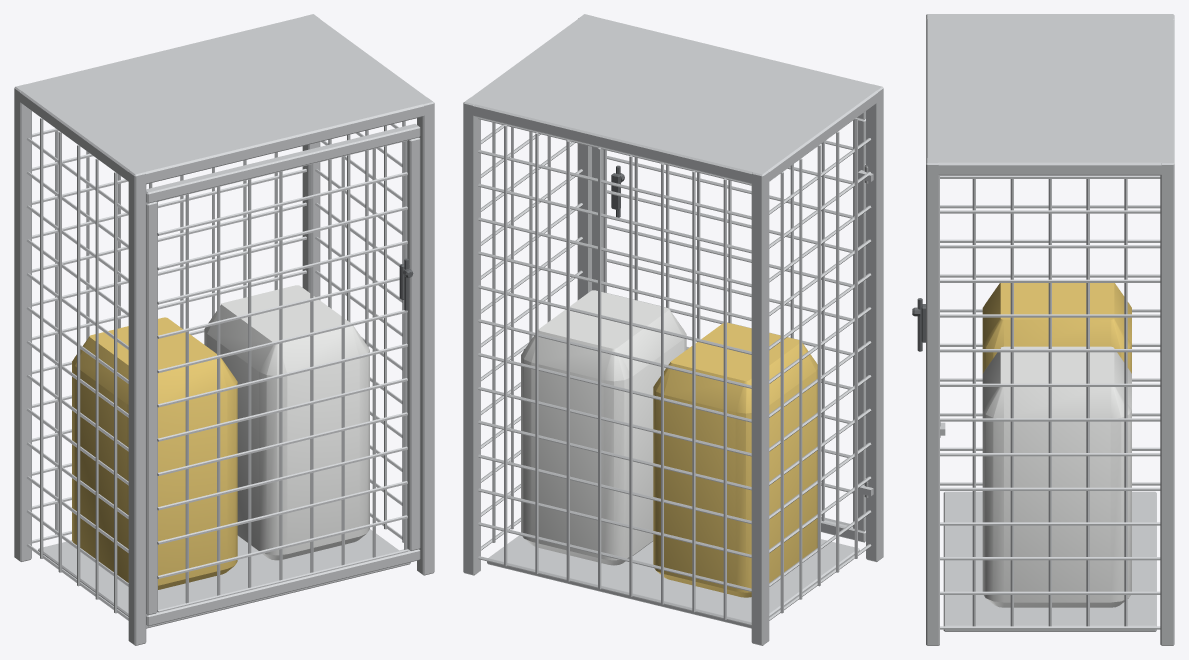
Rendered from clinic-and-veterinary-practice-clinical-waste-store-ca-f47c23ec__16788.glb.
3 renders of one model, left to right at view 1: azimuth 30°, elevation 25°; view 2: azimuth 150°, elevation 25°; view 3: azimuth 270°, elevation 25°, orthographic. The views are drawn at different scales.
Visible parts, largest first — view 1: clinical-waste-store-cage, gate/metal; view 2: clinical-waste-store-cage, gate/metal; view 3: clinical-waste-store-cage, gate/dark.
Part boxes in pixels (left/top/right/bottom): clinical-waste-store-cage: left=14, top=14, right=434, bottom=645; gate/metal: left=146, top=124, right=420, bottom=626; clinical-waste-store-cage: left=463, top=14, right=883, bottom=645; gate/metal: left=592, top=111, right=865, bottom=542; clinical-waste-store-cage: left=926, top=14, right=1174, bottom=645; gate/dark: left=912, top=298, right=925, bottom=351.
Size of the model in its own units: 1 by 1.5 by 0.7379.
